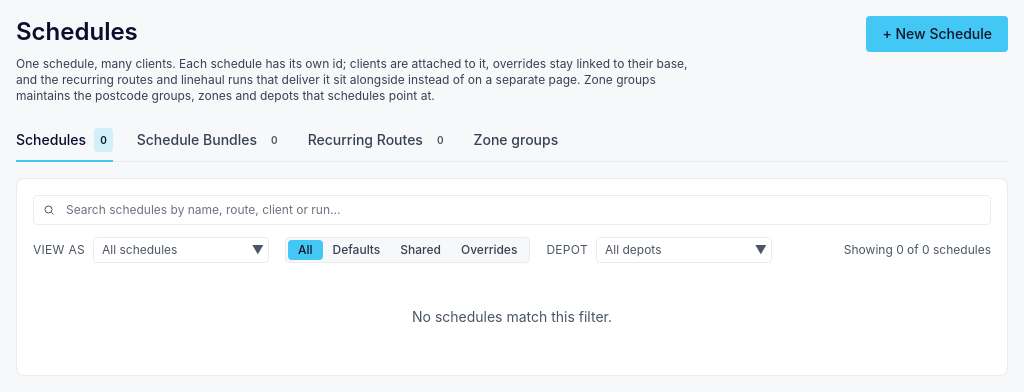
Schedules NEW - Zone groups tab › shows the three sub-views once Zone groups is open, groups first
The width and height of the screenshot is (1024, 392).
(page scrolled)
Click the button "Zone groups": x=516, y=141 [474,120,558,162]
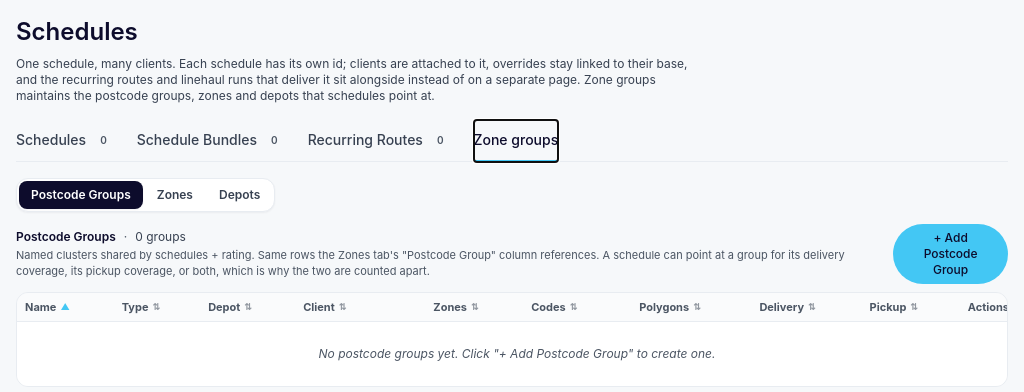
Check: the button "Depots" is shown, box [207,181,272,209]
Check: the button "Postcode Groups" is shown, box [19,181,143,209]
Check: the button "Zones" is shown, box [145,181,205,209]
